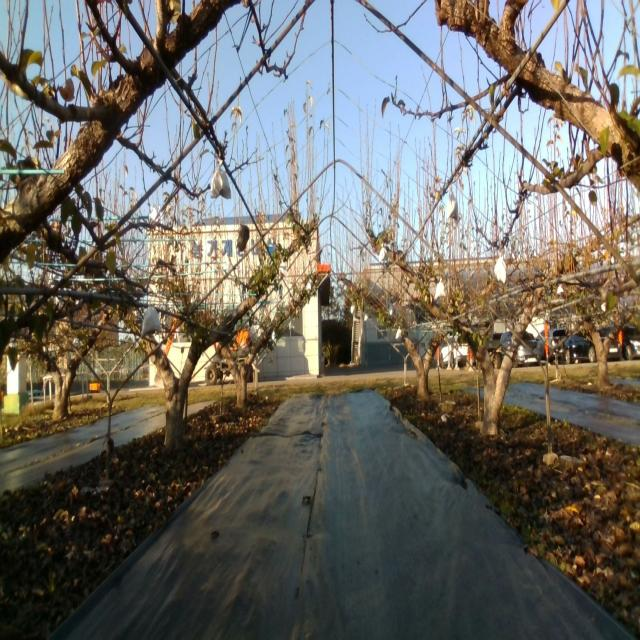pearbags: (209, 160, 231, 200), (141, 306, 163, 340), (494, 256, 506, 284), (446, 192, 458, 219), (435, 276, 446, 299)
